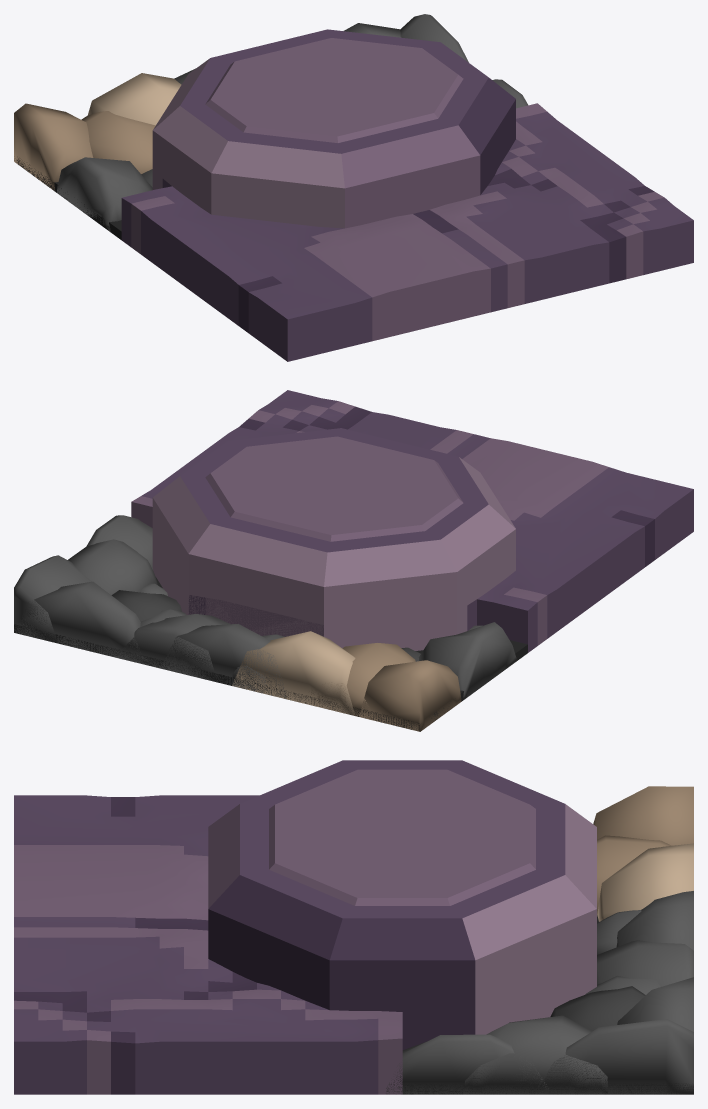
The model's file is purple_pad_t.glb.
The picture shows the model from 3 angles, top to bottom: view 1: azimuth 30°, elevation 25°; view 2: azimuth 150°, elevation 25°; view 3: azimuth 270°, elevation 25°; orthographic projection. The views are drawn at different scales.
Visible parts, largest first — view 1: purple_pad_t_floor, purple_pad_t_pad, purple_pad_t_pad_panel, purple_pad_t_rocks_3, purple_pad_t_rocks_4, purple_pad_t_rocks_7, purple_pad_t_rocks_1, purple_pad_t_rocks_2, purple_pad_t_rocks_base; view 2: purple_pad_t_pad, purple_pad_t_floor, purple_pad_t_pad_panel, purple_pad_t_rocks_1, purple_pad_t_rocks_12, purple_pad_t_rocks_3, purple_pad_t_rocks_10, purple_pad_t_rocks_4, purple_pad_t_rocks_9, purple_pad_t_rocks_2, purple_pad_t_rocks_0, purple_pad_t_rocks_7 (+4 smaller); view 3: purple_pad_t_floor, purple_pad_t_pad, purple_pad_t_pad_panel, purple_pad_t_rocks_2, purple_pad_t_rocks_0, purple_pad_t_rocks_6, purple_pad_t_rocks_3, purple_pad_t_rocks_1, purple_pad_t_rocks_9, purple_pad_t_rocks_10, purple_pad_t_rocks_15, purple_pad_t_rocks_12 (+4 smaller).
Part boxes in pixels (box(x1,y1,x2,y2)): purple_pad_t_floor: box(121, 103, 693, 361); purple_pad_t_pad: box(152, 29, 515, 228); purple_pad_t_pad_panel: box(205, 38, 463, 142); purple_pad_t_rocks_3: box(14, 103, 93, 190); purple_pad_t_rocks_4: box(57, 157, 152, 231); purple_pad_t_rocks_7: box(81, 111, 155, 173); purple_pad_t_rocks_1: box(87, 73, 181, 125); purple_pad_t_rocks_2: box(400, 14, 468, 62); purple_pad_t_rocks_base: box(14, 158, 121, 239); purple_pad_t_pad: box(152, 428, 515, 650); purple_pad_t_floor: box(131, 390, 693, 652); purple_pad_t_pad_panel: box(205, 436, 463, 541); purple_pad_t_rocks_1: box(232, 631, 355, 715); purple_pad_t_rocks_12: box(20, 581, 142, 661); purple_pad_t_rocks_3: box(359, 660, 461, 731); purple_pad_t_rocks_10: box(162, 624, 288, 699); purple_pad_t_rocks_4: box(418, 622, 517, 699); purple_pad_t_rocks_9: box(115, 614, 230, 682); purple_pad_t_rocks_2: box(14, 555, 91, 643); purple_pad_t_rocks_0: box(68, 539, 157, 595); purple_pad_t_rocks_7: box(311, 643, 415, 719); purple_pad_t_floor: box(14, 795, 475, 1094); purple_pad_t_pad: box(208, 760, 596, 1049); purple_pad_t_pad_panel: box(269, 769, 535, 905); purple_pad_t_rocks_2: box(538, 1019, 693, 1094); purple_pad_t_rocks_0: box(463, 1015, 607, 1094); purple_pad_t_rocks_6: box(386, 1034, 548, 1094); purple_pad_t_rocks_3: box(593, 786, 693, 845); purple_pad_t_rocks_1: box(597, 843, 693, 921); purple_pad_t_rocks_9: box(597, 940, 693, 986); purple_pad_t_rocks_10: box(616, 891, 693, 950); purple_pad_t_rocks_15: box(550, 986, 645, 1031); purple_pad_t_rocks_12: box(617, 977, 693, 1031).
Size of the model in its own units: 24 by 6.25 by 28.
